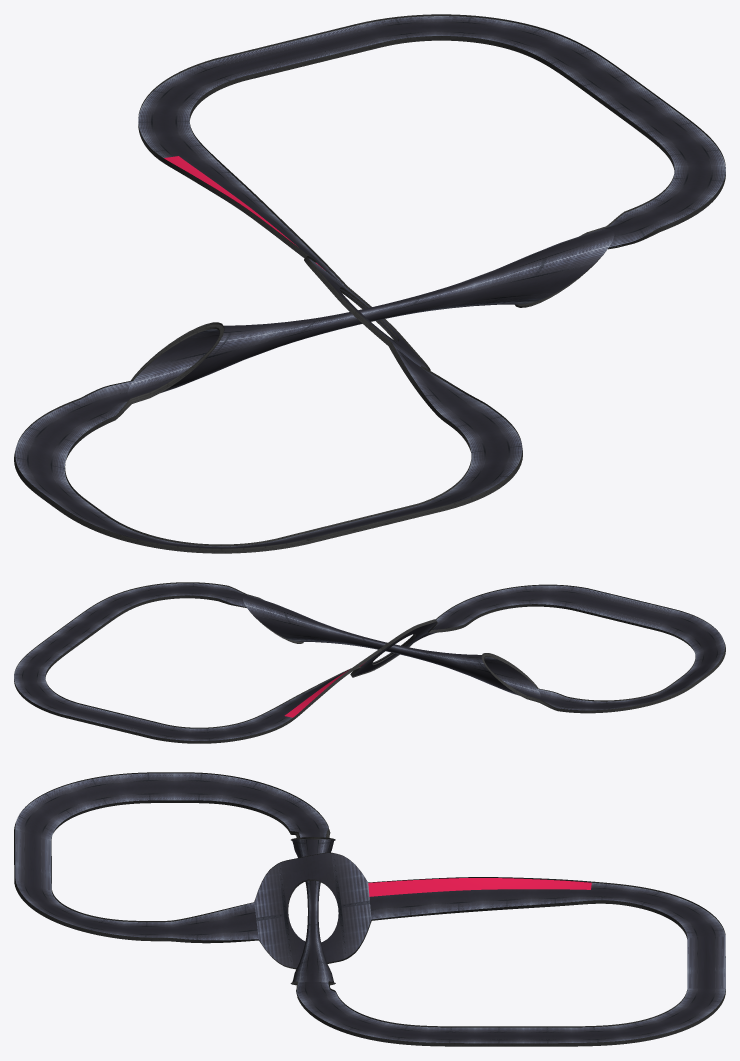
The model's file is track.glb.
The picture shows the model from 3 angles, top to bottom: view 1: azimuth 30°, elevation 25°; view 2: azimuth 150°, elevation 25°; view 3: azimuth 270°, elevation 25°; orthographic projection. The views are drawn at different scales.
Visible parts, largest first — view 1: track, detail; view 2: track, detail; view 3: track, detail.
Part boxes in pixels (x1,y1,x2,y2): track: (15, 16, 725, 548); detail: (14, 14, 725, 553); track: (14, 583, 724, 740); detail: (14, 582, 725, 743); track: (15, 773, 725, 1043); detail: (14, 772, 725, 1046).
Bounding box in the file's own units: 1518 × 195 × 1503.
3 materials, 2 textured.
